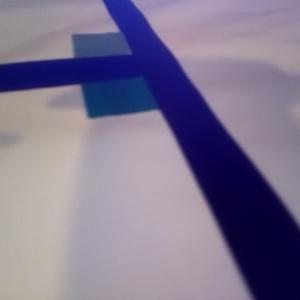bottom_left: (80, 56, 174, 117)
top_left: (71, 31, 154, 74)
